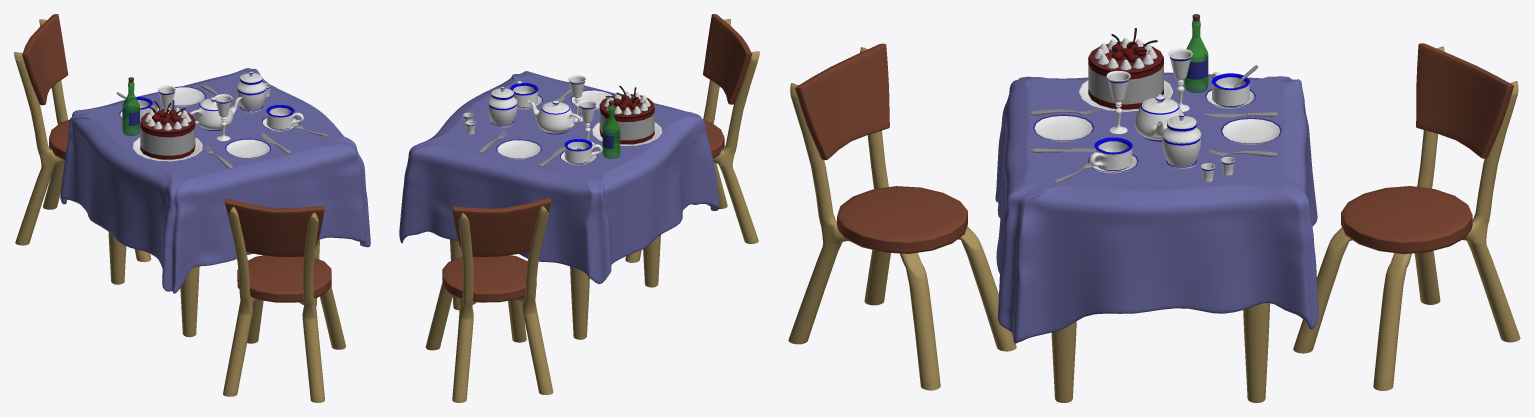
Rendered from maya2sketchfab.fbx.
3 renders of one model, left to right at view 1: azimuth 30°, elevation 25°; view 2: azimuth 150°, elevation 25°; view 3: azimuth 270°, elevation 25°, orthographic. The views are drawn at different scales.
Parts seen in each view (by area): view 1: Table:Tablecloth, Сhair1:polySurface1, polySurface1, Сhair1:polySurface2, Сhair1:polySurface3, Cake:Cake, polySurface2, Table:Table, Teapot:Teapot, sugar_bowl:sugar_bowl, bottle:Bottle, Plate:Plate (+4 smaller); view 2: Table:Tablecloth, polySurface1, polySurface2, Сhair1:polySurface1, polySurface3, Сhair1:polySurface2, Cake:Cake, Table:Table, Teapot:Teapot, sugar_bowl:sugar_bowl, bottle:Bottle, Plate1 (+6 smaller); view 3: Table:Tablecloth, Сhair1:polySurface1, polySurface1, polySurface2, polySurface3, Сhair1:polySurface3, Сhair1:polySurface2, Cake:Cake, Table:Table, sugar_bowl:sugar_bowl, Plate:Plate, Plate1 (+6 smaller).
Part boxes in pixels (x1,y1,x2,y2): Table:Tablecloth: (60,68,370,293); Сhair1:polySurface1: (223,206,345,402); polySurface1: (14,19,151,262); Сhair1:polySurface2: (224,199,324,256); Сhair1:polySurface3: (237,255,331,302); Cake:Cake: (133,100,202,161); polySurface2: (22,14,68,105); Table:Table: (108,232,319,337); Teapot:Teapot: (189,97,242,130); sugar_bowl:sugar_bowl: (236,81,265,113); bottle:Bottle: (122,81,139,135); Plate:Plate: (225,138,270,158); Table:Tablecloth: (399,71,719,284); polySurface1: (425,205,553,402); polySurface2: (452,198,551,256); Сhair1:polySurface1: (625,19,759,262); polySurface3: (442,255,536,302); Сhair1:polySurface2: (703,14,751,104); Cake:Cake: (592,85,661,145); Table:Table: (450,235,660,339); Teapot:Teapot: (527,100,580,134); sugar_bowl:sugar_bowl: (488,97,517,128); bottle:Bottle: (602,105,620,158); Plate1: (496,139,541,159); Table:Tablecloth: (995,72,1318,343); Сhair1:polySurface1: (788,47,1016,390); polySurface1: (1293,46,1520,390); polySurface2: (1416,43,1513,158); polySurface3: (1341,186,1472,253); Сhair1:polySurface3: (837,186,967,253); Сhair1:polySurface2: (795,43,889,160); Cake:Cake: (1079,28,1173,111); Table:Table: (1051,303,1270,402); sugar_bowl:sugar_bowl: (1162,127,1201,169); Plate:Plate: (1033,114,1094,141); Plate1: (1220,117,1281,144).
Size of the model in its own units: 26.16 by 25.65 by 56.74.
